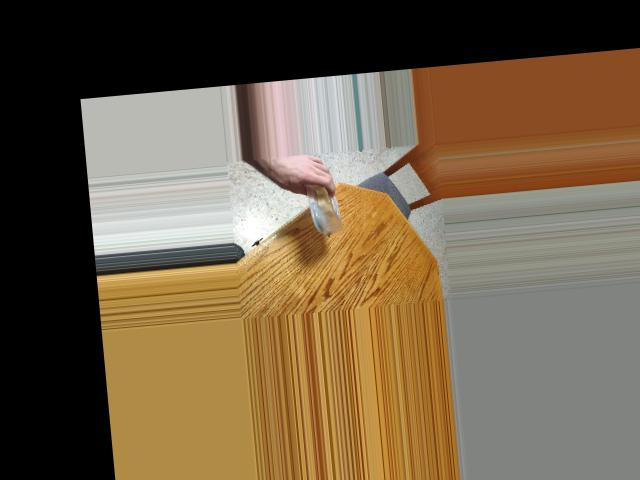cheese: (280, 165, 354, 238)
